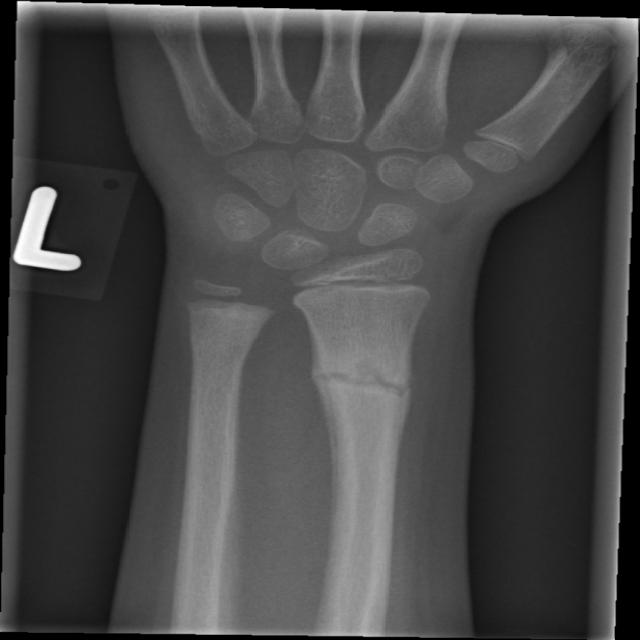radius fracture: (295, 328, 440, 487)
